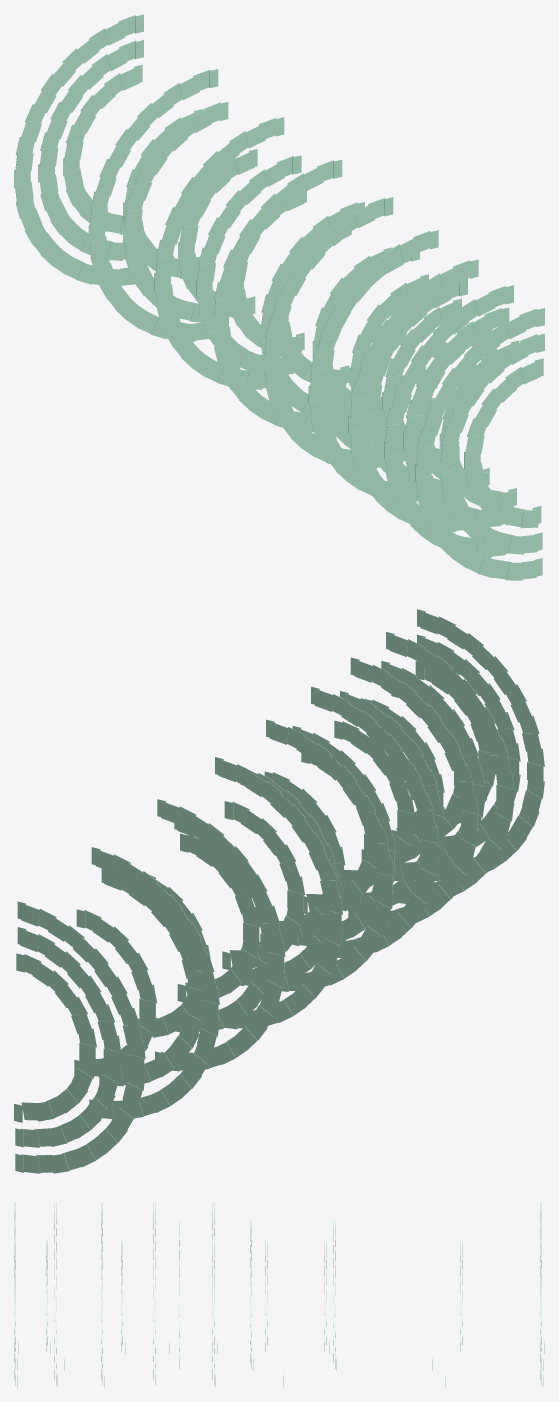
File: ITK-Pixel-Layout-Outer-Endcap-SideC-cut2.glb
The picture shows the model from 3 angles, top to bottom: view 1: azimuth 30°, elevation 25°; view 2: azimuth 150°, elevation 25°; view 3: azimuth 270°, elevation 25°; orthographic projection. The views are drawn at different scales.
Parts seen in each view (by area): view 1: ITK_Pixel_Layout_Outer_Endcap_SideC Cut 2; view 2: ITK_Pixel_Layout_Outer_Endcap_SideC Cut 2; view 3: ITK_Pixel_Layout_Outer_Endcap_SideC Cut 2.
Boxes of the visible parts, x1,y1,x2,y2 form: ITK_Pixel_Layout_Outer_Endcap_SideC Cut 2: [14, 14, 544, 580]; ITK_Pixel_Layout_Outer_Endcap_SideC Cut 2: [14, 609, 544, 1173]; ITK_Pixel_Layout_Outer_Endcap_SideC Cut 2: [14, 1202, 544, 1387].
Bounding box in the file's own units: 0.3155 × 0.6311 × 1.72.
